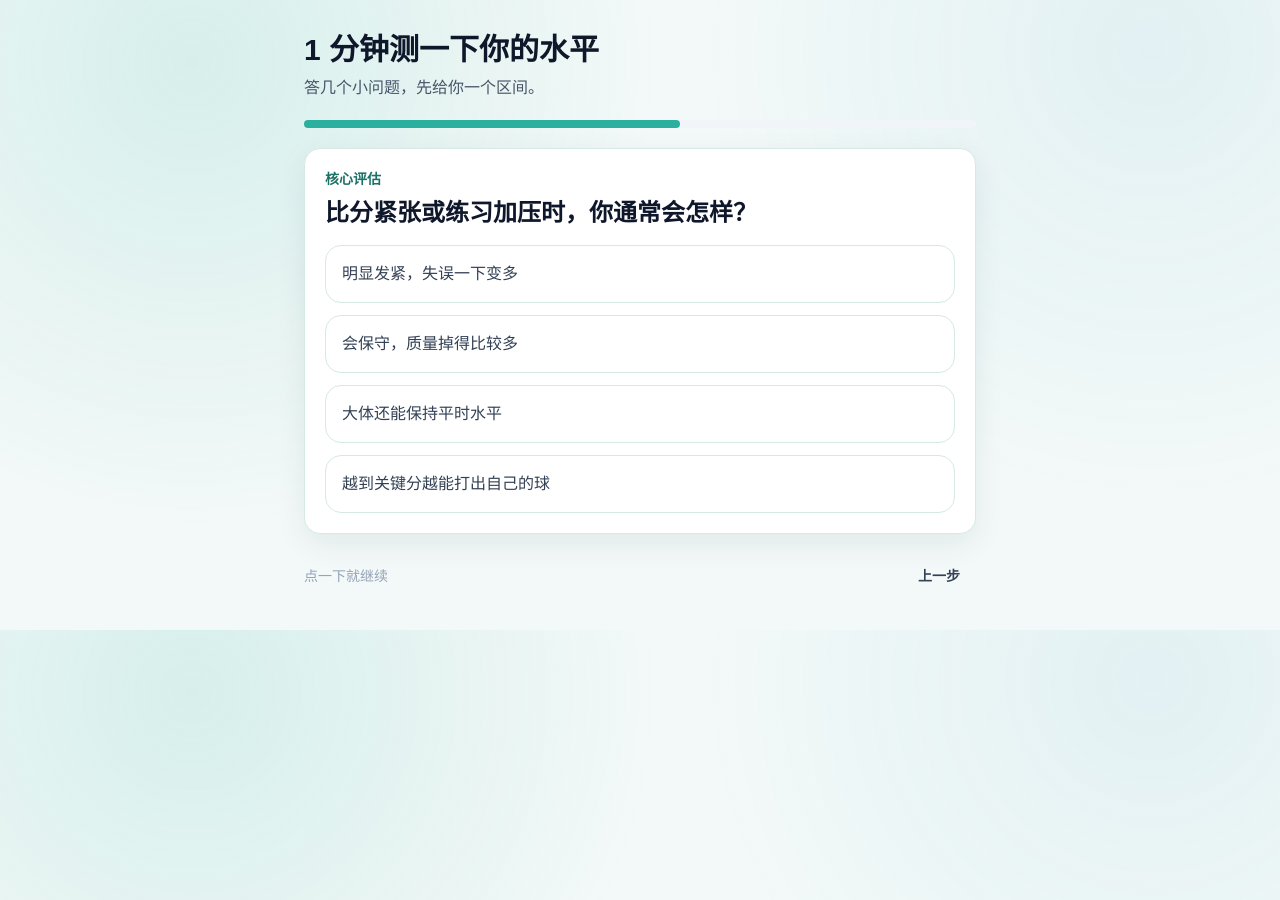
Scenario: assessment flow and result summary › restores the last coarse step and advances into the first fine question with updated progress after gender removal
Expected: the heading "比分紧张或练习加压时，你通常会怎样？" is shown, [325, 199, 757, 226]
Click the button "明显发紧，失误一下变多".
click(430, 274)  # box [325, 245, 955, 303]
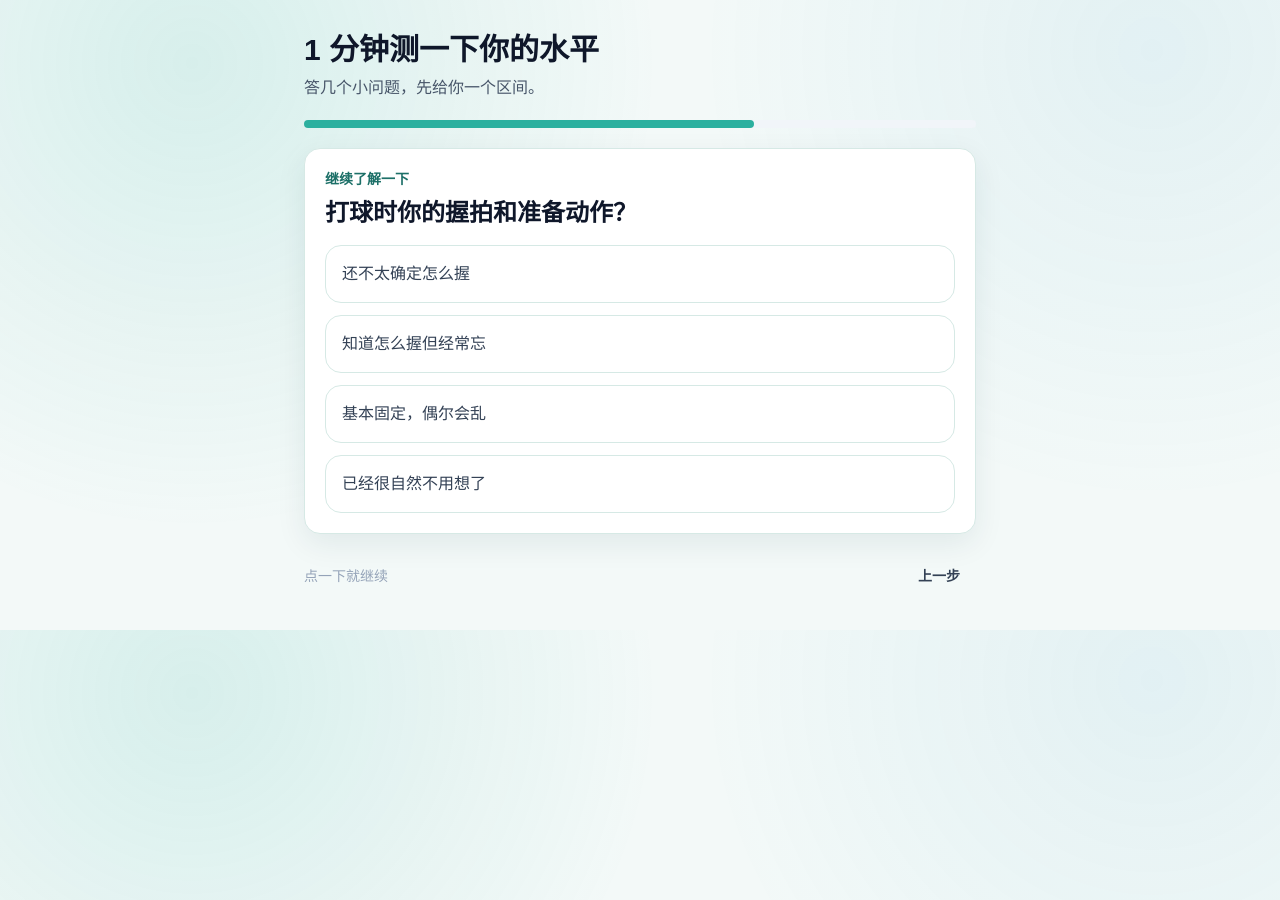
Result: the heading "打球时你的握拍和准备动作？" is shown at [325, 199, 637, 226]
